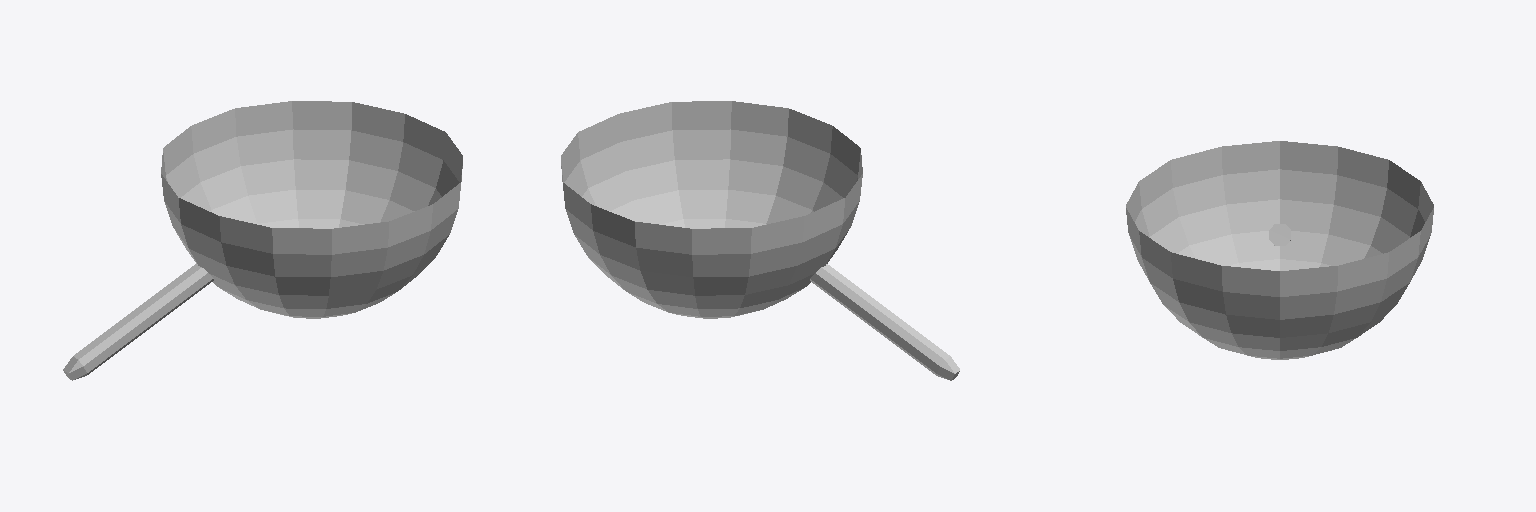
The model's file is gunnerTurret.obj.
3 views of the same model, side by side, from view 1: azimuth 30°, elevation 25°; view 2: azimuth 150°, elevation 25°; view 3: azimuth 270°, elevation 25° (orthographic).
Visible parts, largest first — view 1: Main_Body, Barrel_1.001; view 2: Main_Body, Barrel_1.001; view 3: Main_Body.
Part boxes in pixels (x1,y1,x2,y2): Main_Body: (161,101,462,318); Barrel_1.001: (63,263,213,380); Main_Body: (561,101,862,318); Barrel_1.001: (810,264,959,380); Main_Body: (1126,141,1433,359).
Size of the model in its own units: 6.78 by 2.64 by 4.77.